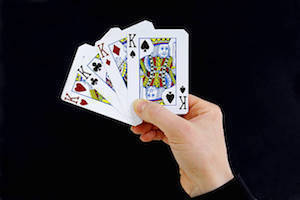KingOfClubs: (72, 51, 108, 94)
KingOfDiamonds: (95, 34, 127, 89)
KingOfHearts: (58, 74, 93, 119)
KingOfSpades: (124, 28, 191, 118)
